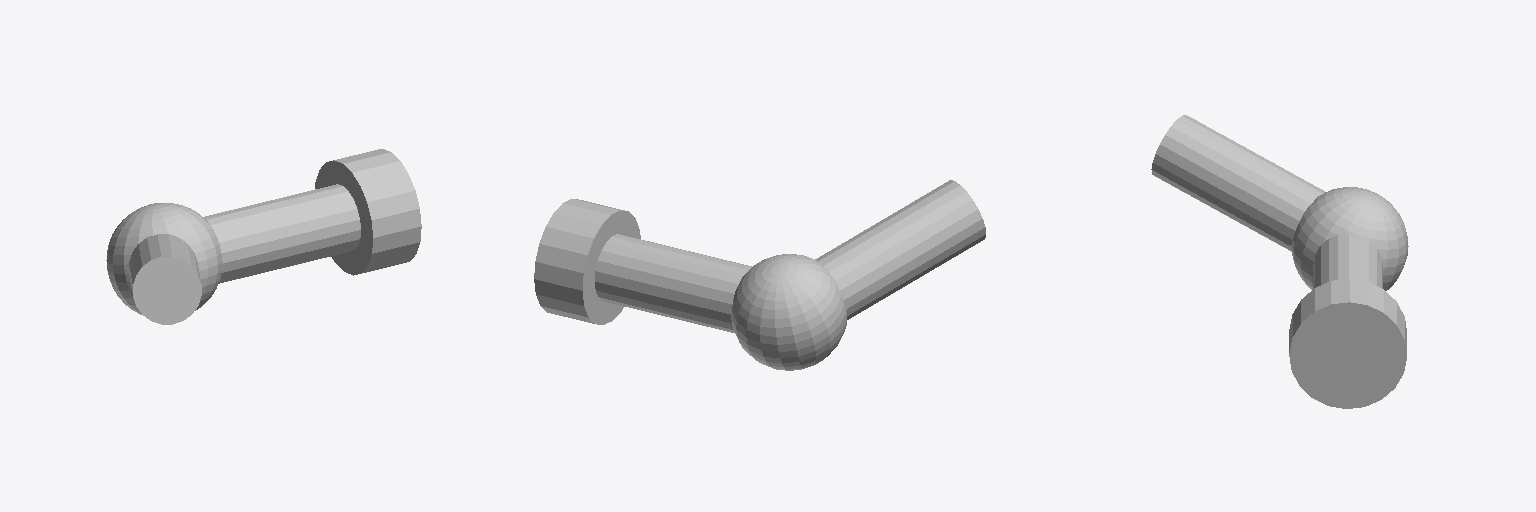
Rendered from leftArm.obj.
3 views of the same model, side by side, from view 1: azimuth 30°, elevation 25°; view 2: azimuth 150°, elevation 25°; view 3: azimuth 270°, elevation 25° (orthographic).
Parts seen in each view (by area): view 1: arm2 pForeArm, arm2 pArmBase, pArmJoint arm2, arm2 pMainArm; view 2: arm2 pMainArm, pArmJoint arm2, arm2 pForeArm, arm2 pArmBase; view 3: arm2 pArmBase, arm2 pMainArm, pArmJoint arm2, arm2 pForeArm.
Part boxes in pixels (bbox=[...]): arm2 pForeArm: bbox=[204, 184, 360, 283]; arm2 pArmBase: bbox=[315, 149, 421, 275]; pArmJoint arm2: bbox=[106, 203, 222, 314]; arm2 pMainArm: bbox=[129, 234, 201, 324]; arm2 pMainArm: bbox=[815, 180, 985, 319]; pArmJoint arm2: bbox=[731, 254, 846, 370]; arm2 pForeArm: bbox=[595, 234, 751, 332]; arm2 pArmBase: bbox=[534, 199, 640, 324]; arm2 pArmBase: bbox=[1289, 279, 1406, 408]; arm2 pMainArm: bbox=[1151, 115, 1324, 251]; pArmJoint arm2: bbox=[1291, 187, 1408, 290]; arm2 pForeArm: bbox=[1313, 233, 1382, 288].
Bounding box in the file's own units: 14.06 × 5.54 × 9.2.